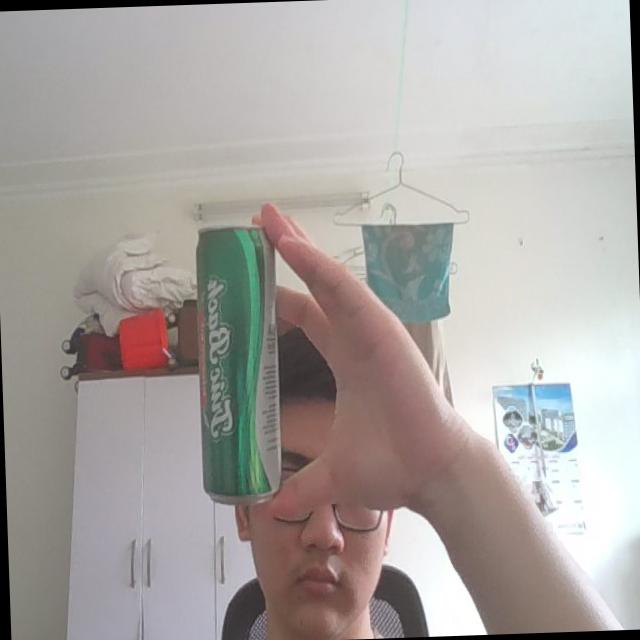Bia-Truc-Bach: (189, 218, 284, 506)
